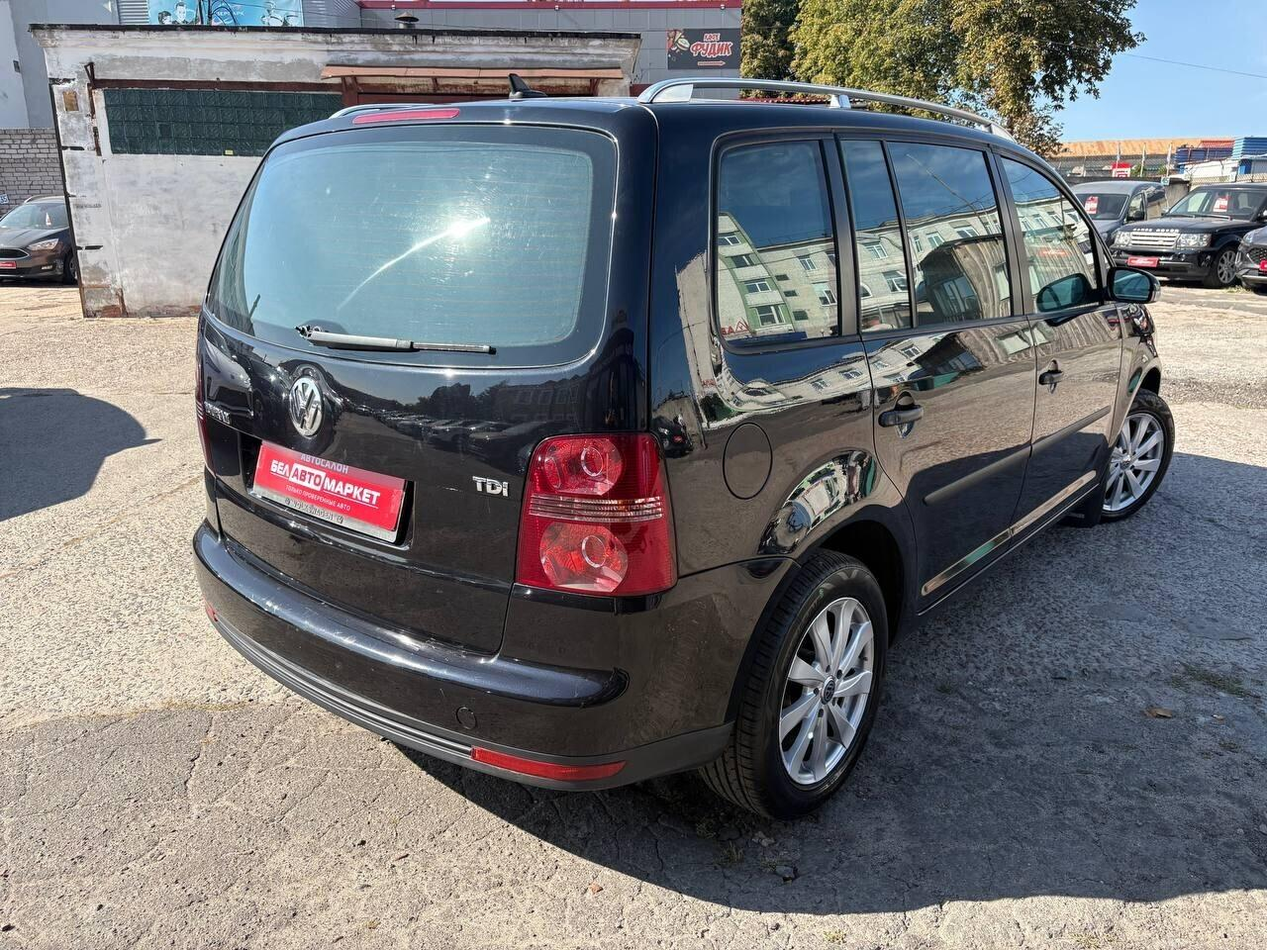Touran_2006-2010: (187, 87, 1180, 805)
